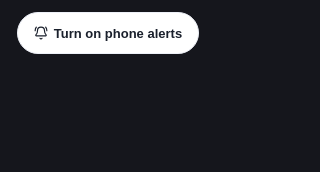
Test case: PushButton › turns phone alerts on from a tap
This screenshot has width=320, height=172.
Click the button "Turn on phone alerts" at (108, 33), box left=17, top=12, right=199, bottom=54
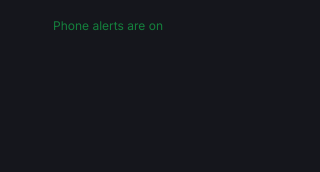
Expected: the message reads "Phone alerts are on", left=53, top=18, right=163, bottom=33
